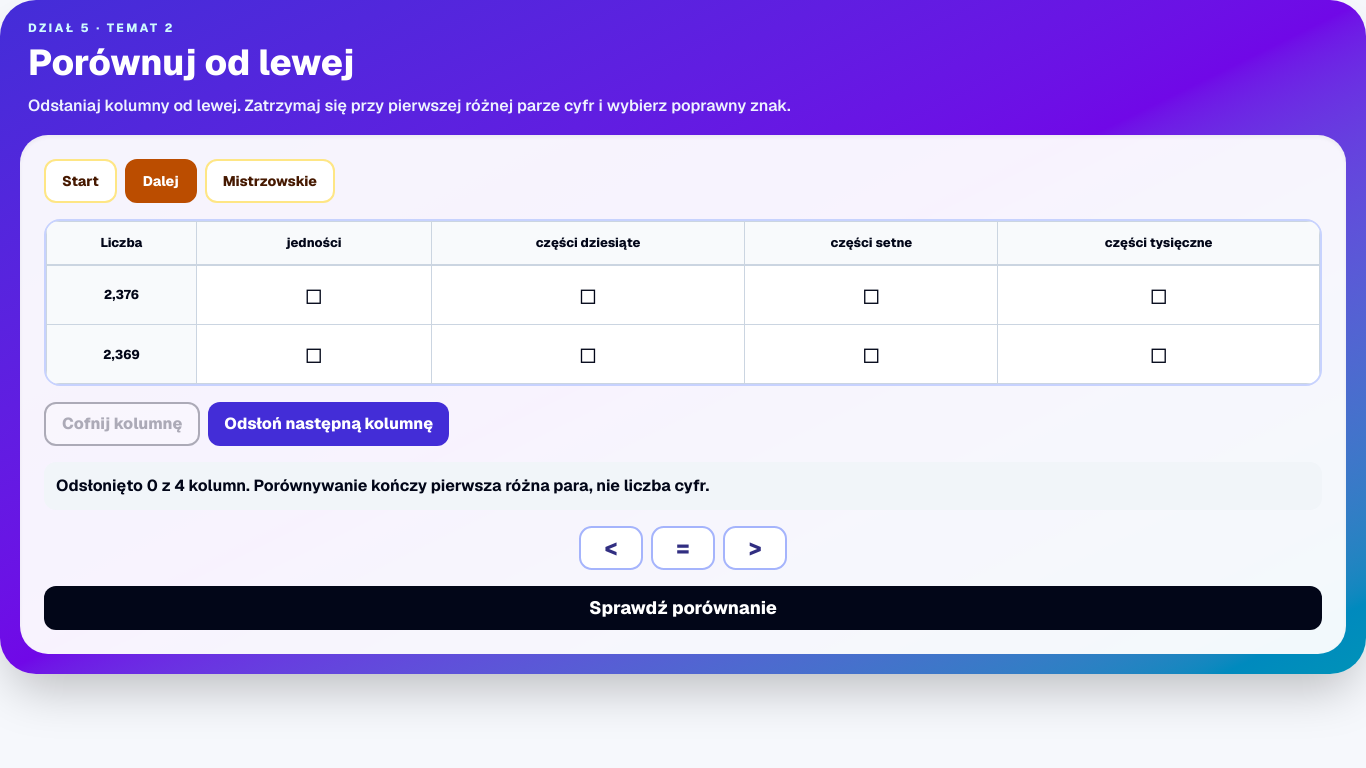
Test: DecimalComparisonLab przez lokalny adapter decimal-notation-l1 › odsłania kolumny od lewej i oznacza pierwszą różną parę
Click the button "Odsłoń następną kolumnę". click: (329, 424)
box: [208,402,449,446]
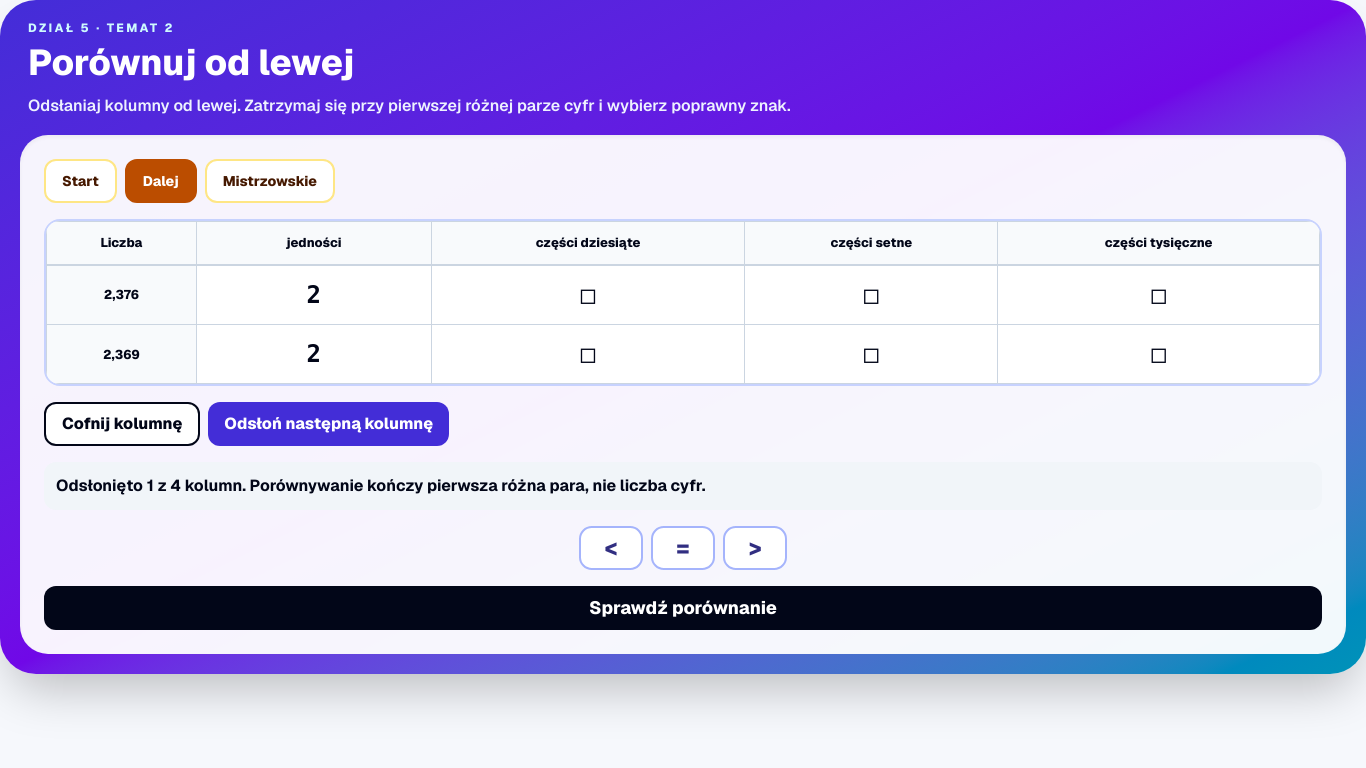
Click the button "Odsłoń następną kolumnę". click: (329, 424)
box: [208,402,449,446]
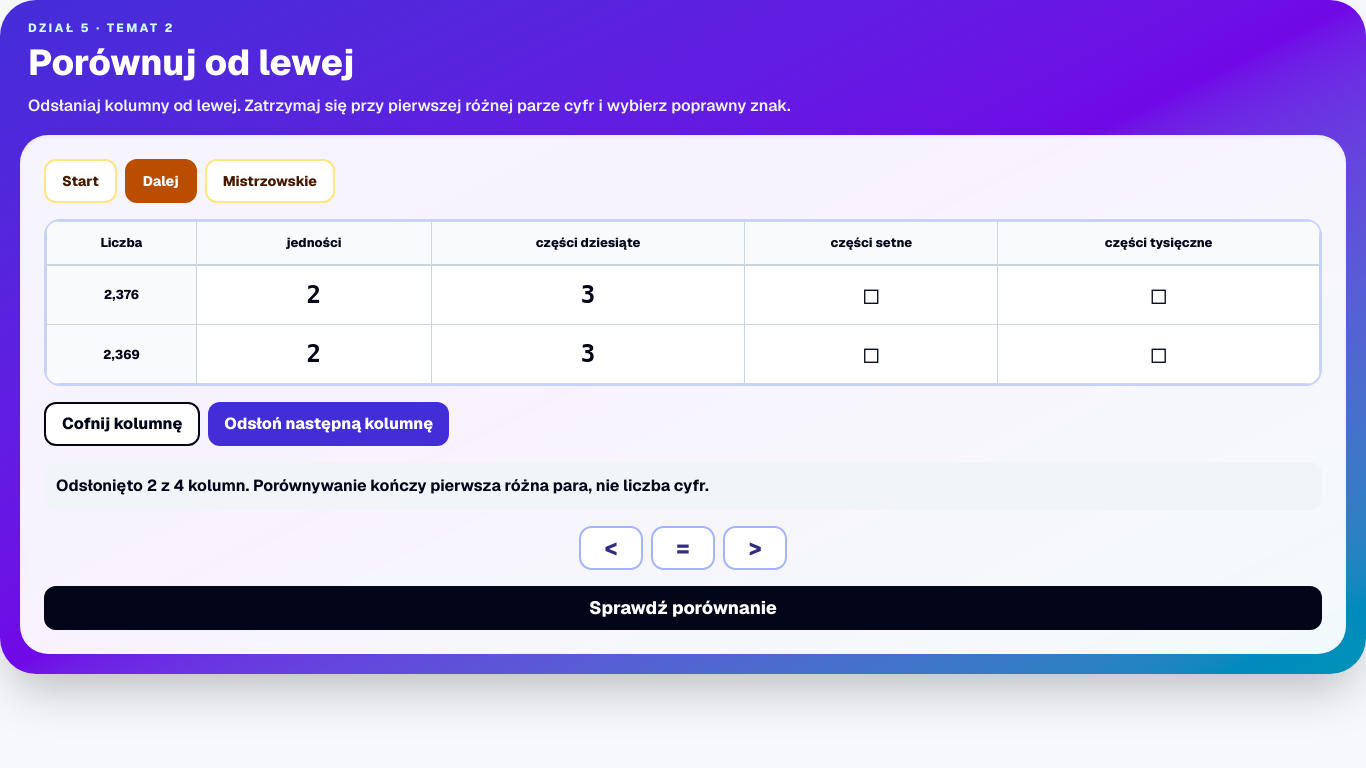
Click the button "Odsłoń następną kolumnę". click: (329, 424)
box: [208,402,449,446]
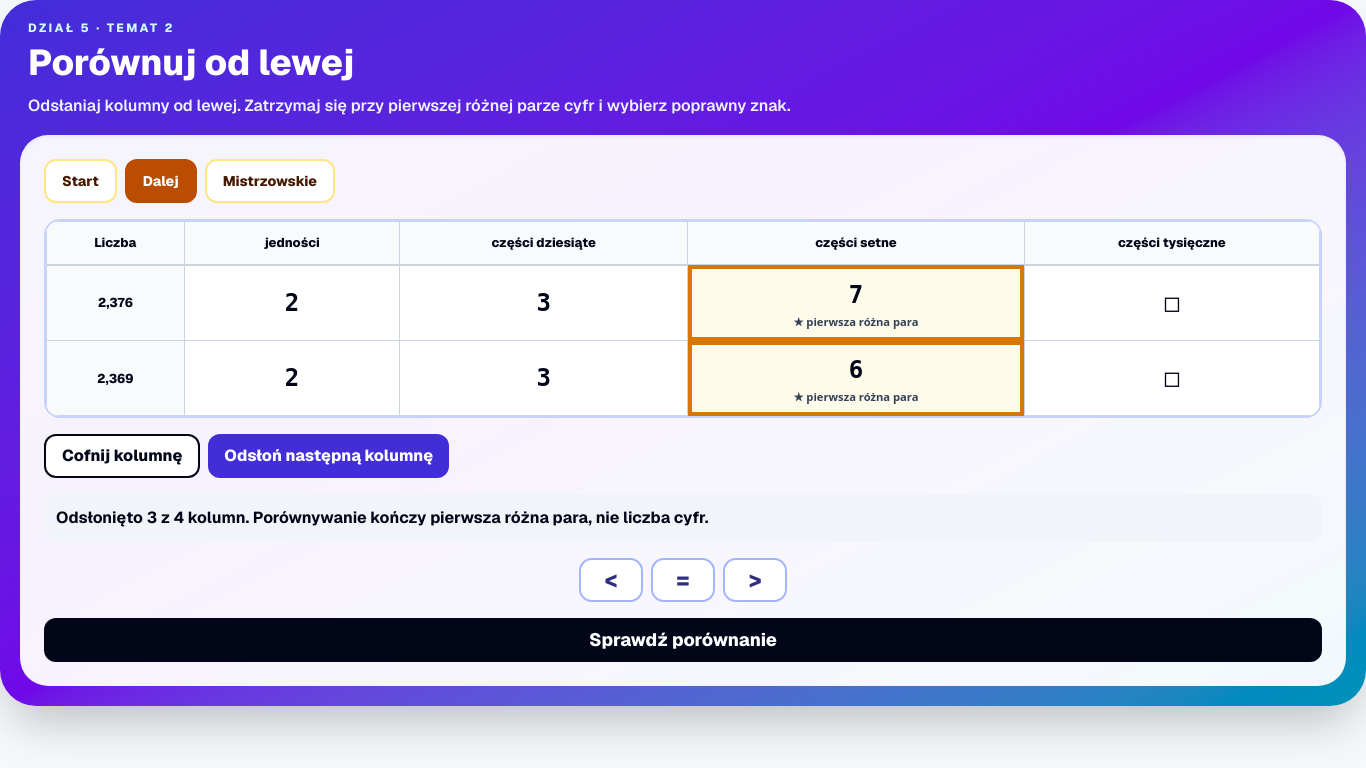
Expected: the cell "7 ★ pierwsza różna para" is shown, [688,265,1024,340]
Click the button named "2,376 i 2,369: znak większości". click: (755, 580)
box: [723,558,787,602]
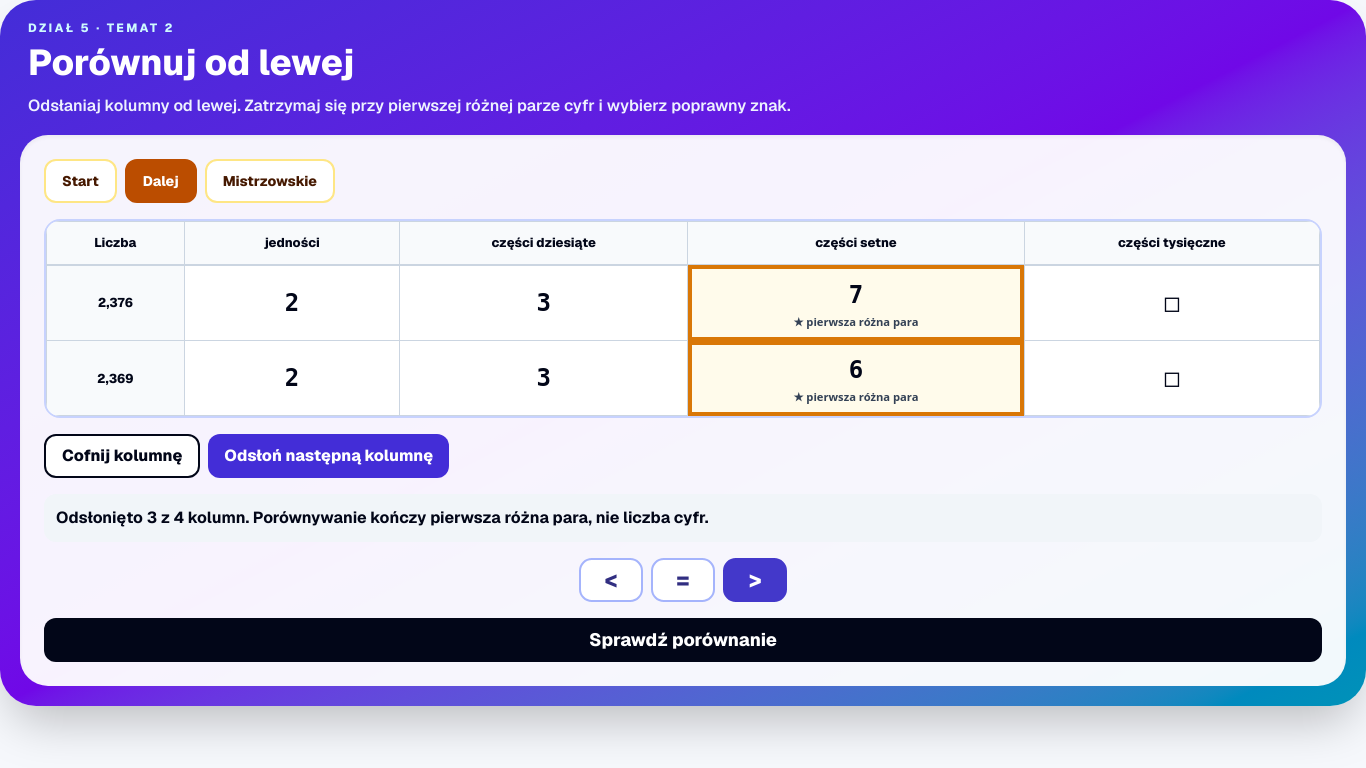
Click the button "Sprawdź porównanie". click: (683, 640)
box: [44,618,1322,662]
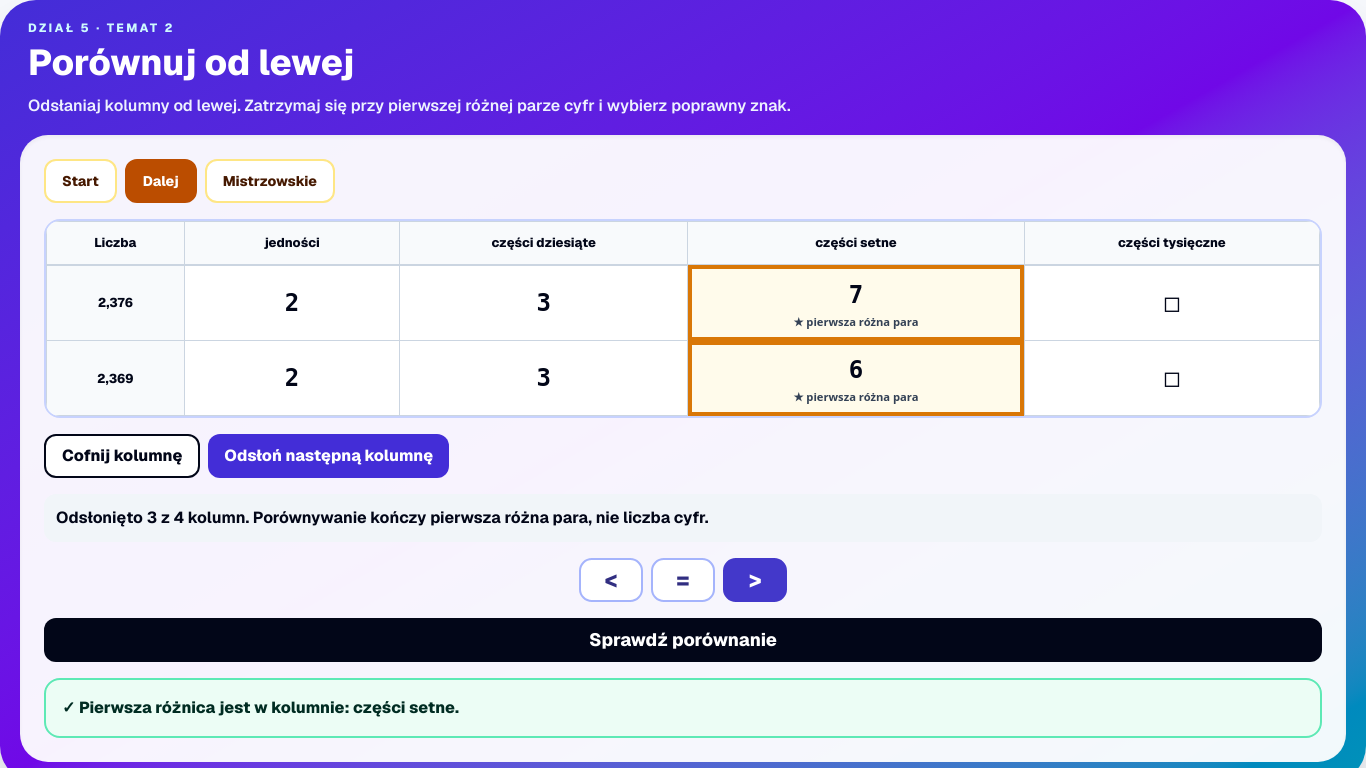
Now the message shows "części setne", box [79,697,459,718]
